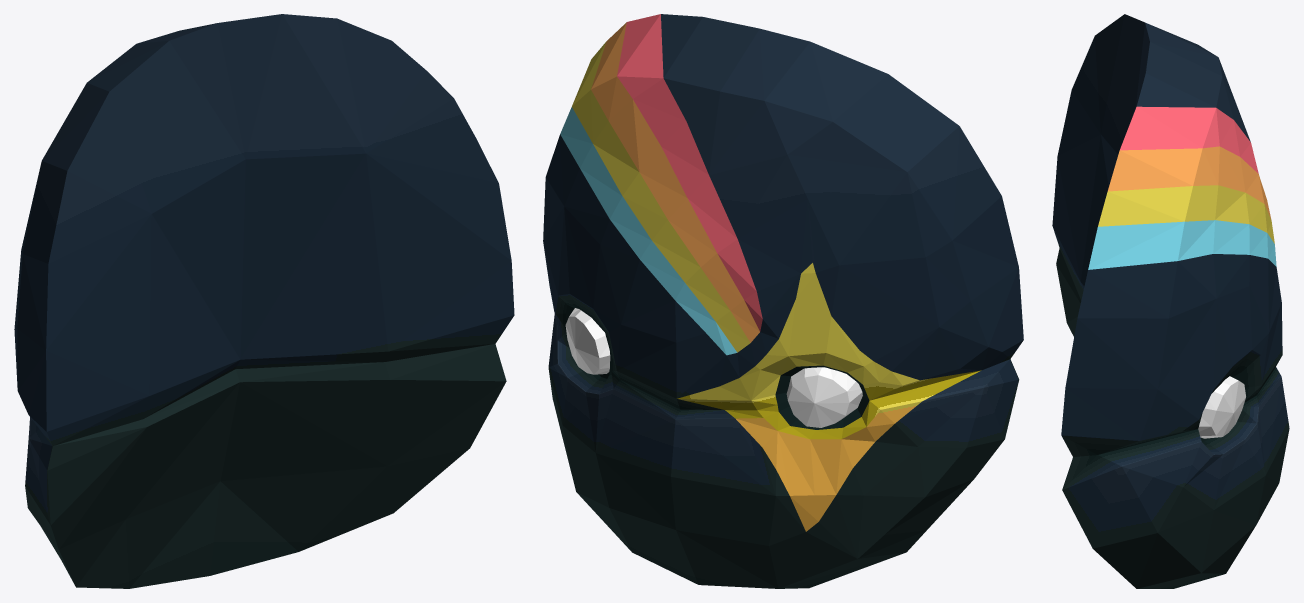
The model's file is CharSkyKid_Mask_RainbowDark.glb.
The picture shows the model from 3 angles, left to right: view 1: azimuth 30°, elevation 25°; view 2: azimuth 150°, elevation 25°; view 3: azimuth 270°, elevation 25°; orthographic projection. The views are drawn at different scales.
Parts seen in each view (by area): view 1: CharSkyKid_Mask_RainbowDark; view 2: CharSkyKid_Mask_RainbowDark; view 3: CharSkyKid_Mask_RainbowDark.
Part boxes in pixels (left/top/right/bottom): CharSkyKid_Mask_RainbowDark: left=14, top=14, right=514, bottom=588; CharSkyKid_Mask_RainbowDark: left=543, top=14, right=1023, bottom=588; CharSkyKid_Mask_RainbowDark: left=1052, top=14, right=1289, bottom=588.
Bounding box in the file's own units: 2.14 × 2.49 × 1.04.
1 material, 1 textured.
